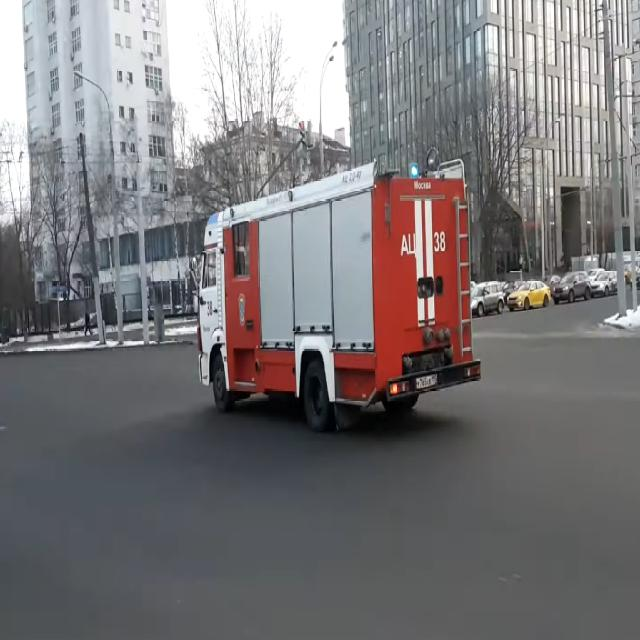fire fighting vehicle: (196, 145, 485, 442)
non emergency car: (509, 276, 551, 318), (473, 277, 507, 319), (554, 269, 594, 304), (590, 270, 623, 301)
